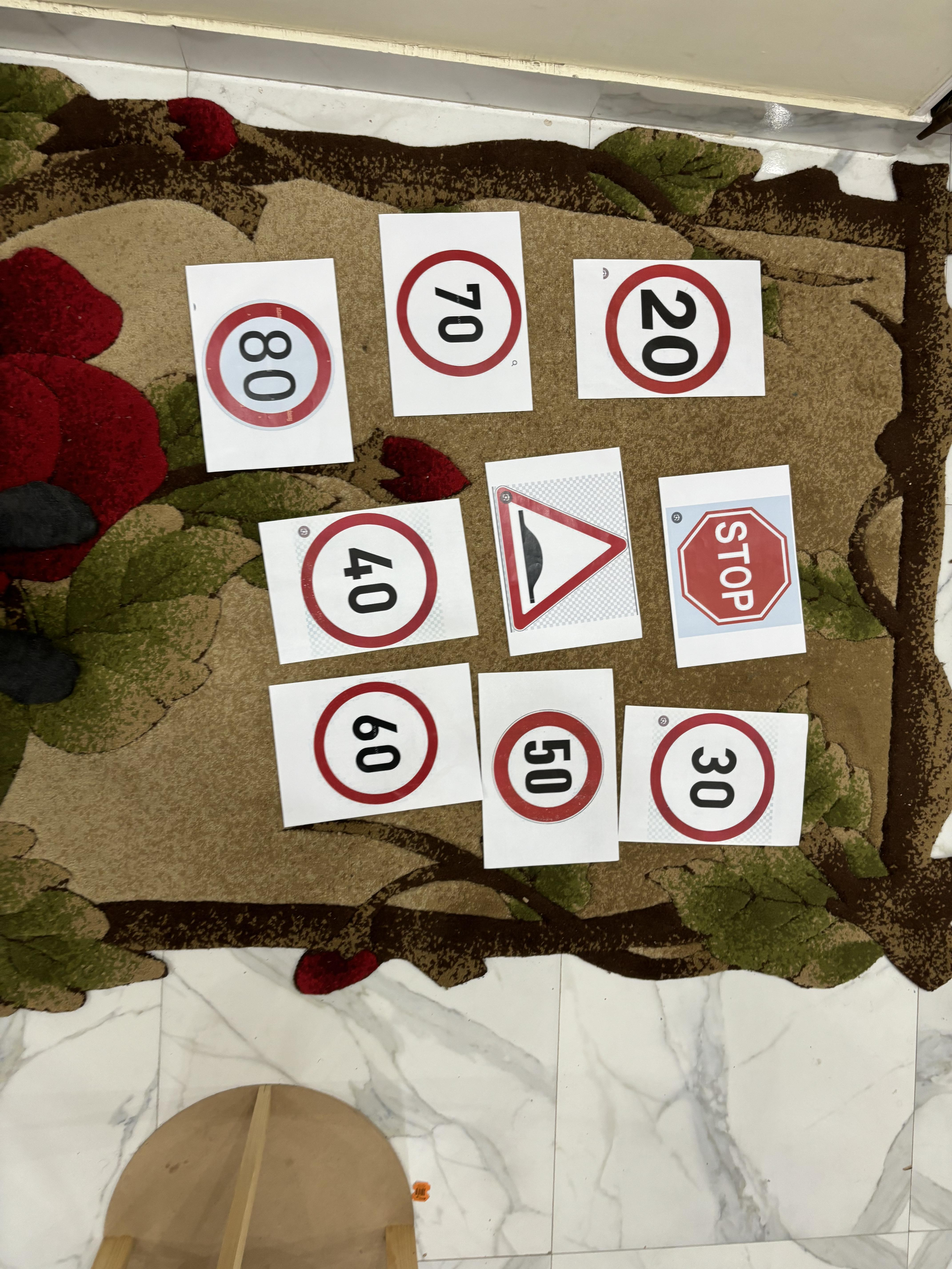20-Speed: (600, 260, 744, 396)
30-speed: (652, 711, 781, 844)
40-Speed: (300, 500, 442, 650)
50-Speed: (492, 698, 603, 838)
60-Speed: (298, 676, 442, 805)
70-Speed: (398, 243, 534, 380)
80-Speed: (200, 294, 331, 429)
Hump: (498, 483, 628, 625)
Stop: (669, 503, 806, 639)
